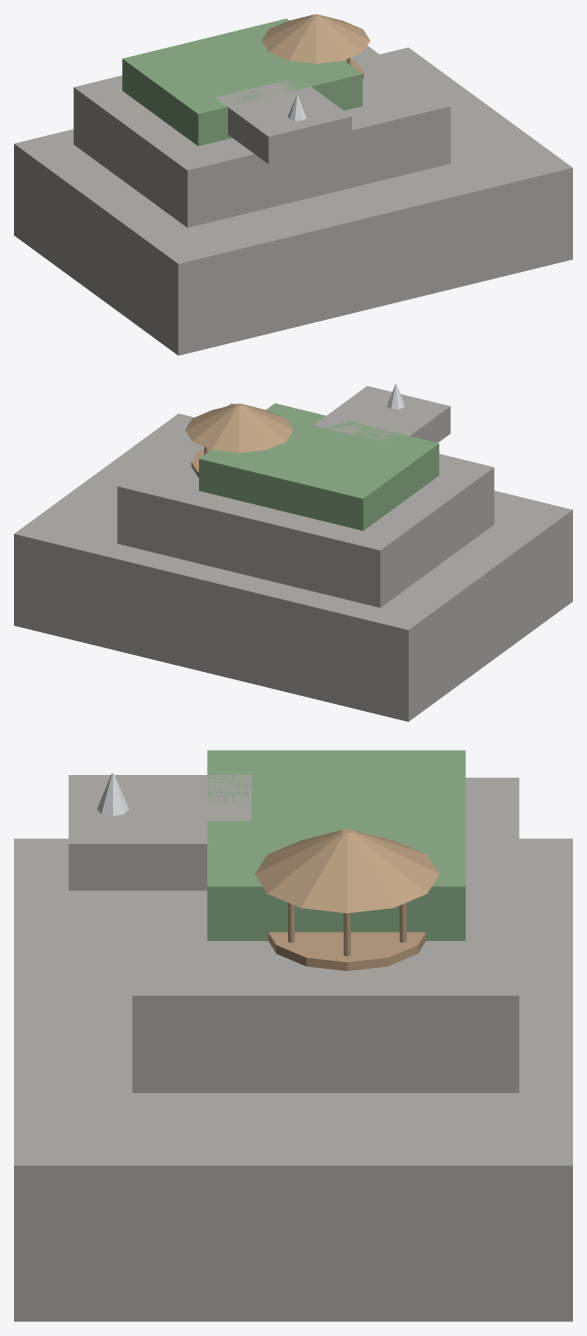
The model's file is lm_118_dinh_pinhatt_1691m_mom_da_san_may_va_dai_vong_canh_ho_tuyen_lam.glb.
3 renders of one model, top to bottom at view 1: azimuth 30°, elevation 25°; view 2: azimuth 150°, elevation 25°; view 3: azimuth 270°, elevation 25°, orthographic. The views are drawn at different scales.
Parts seen in each view (by area): view 1: lm_118_dinh_pinhatt_1691m_mom_da_san_may_va_dai_vong_canh_ho; view 2: lm_118_dinh_pinhatt_1691m_mom_da_san_may_va_dai_vong_canh_ho; view 3: lm_118_dinh_pinhatt_1691m_mom_da_san_may_va_dai_vong_canh_ho.
Part boxes in pixels (x1,y1,x2,y2): lm_118_dinh_pinhatt_1691m_mom_da_san_may_va_dai_vong_canh_ho: [14, 14, 572, 355]; lm_118_dinh_pinhatt_1691m_mom_da_san_may_va_dai_vong_canh_ho: [14, 384, 572, 721]; lm_118_dinh_pinhatt_1691m_mom_da_san_may_va_dai_vong_canh_ho: [14, 750, 572, 1321].
Size of the model in its own units: 36 by 18.4 by 26.
